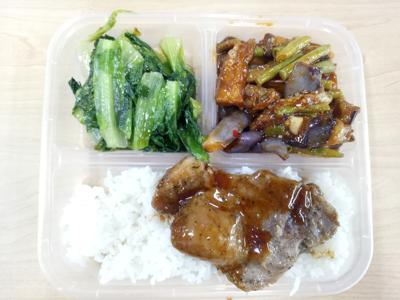sqz: (215, 28, 353, 151)
ymc: (73, 26, 200, 153)
